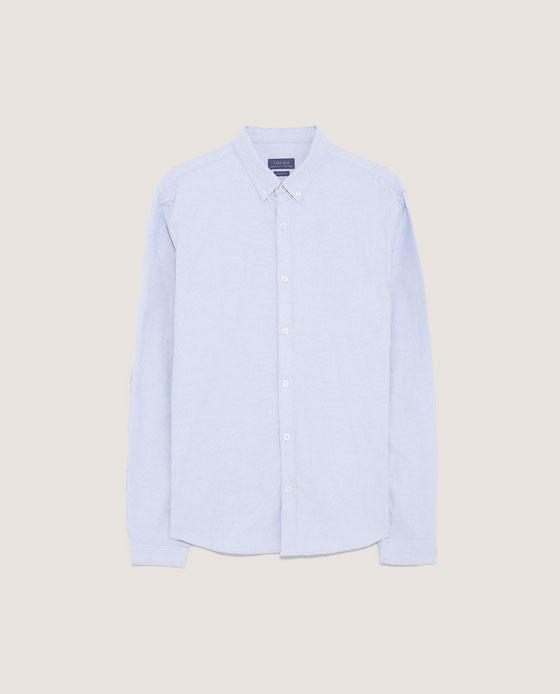teeshirt: (124, 111, 448, 578)
